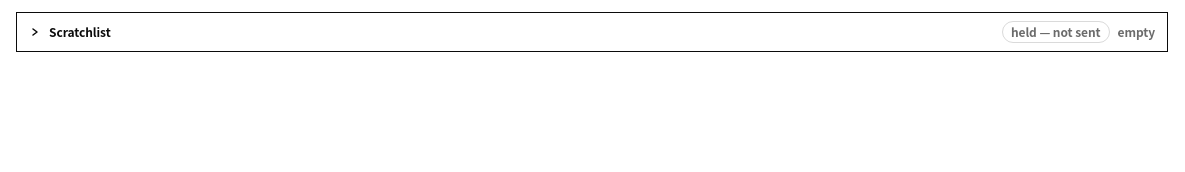
Test: ScratchlistPanel › starts collapsed by default; clicking the header expands it
The width and height of the screenshot is (1185, 172).
Click the button "Scratchlist held — not sent empty": (80, 32) [17,13,1167,51]
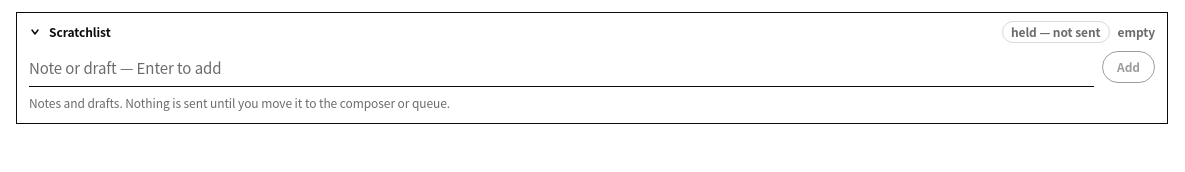
Result: the button "Scratchlist held — not sent empty" is expanded at [17,13,1167,51]
